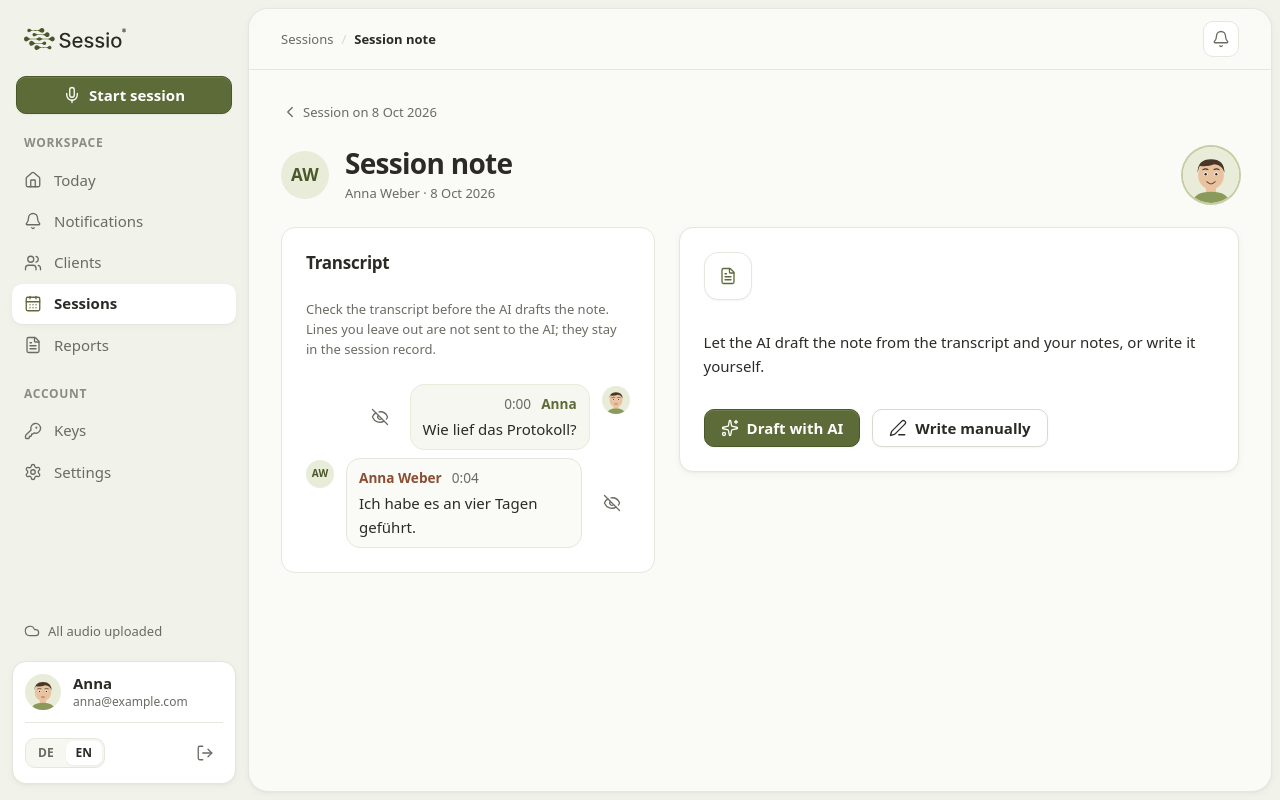
it: session note › lets the therapist leave lines out before the AI draft, and include them again
Expected: the text "Ich habe es an vier Tagen geführt." is shown, [359,492,569,539]
Expected: the text "Anna Weber" is shown, [359,467,442,488]
What coordinates should you click on to do the following:
click the button named "Leave out the line at 0:04 from the AI draft"
I would click on:
 (612, 503)
Its box is [594,485,630,521].
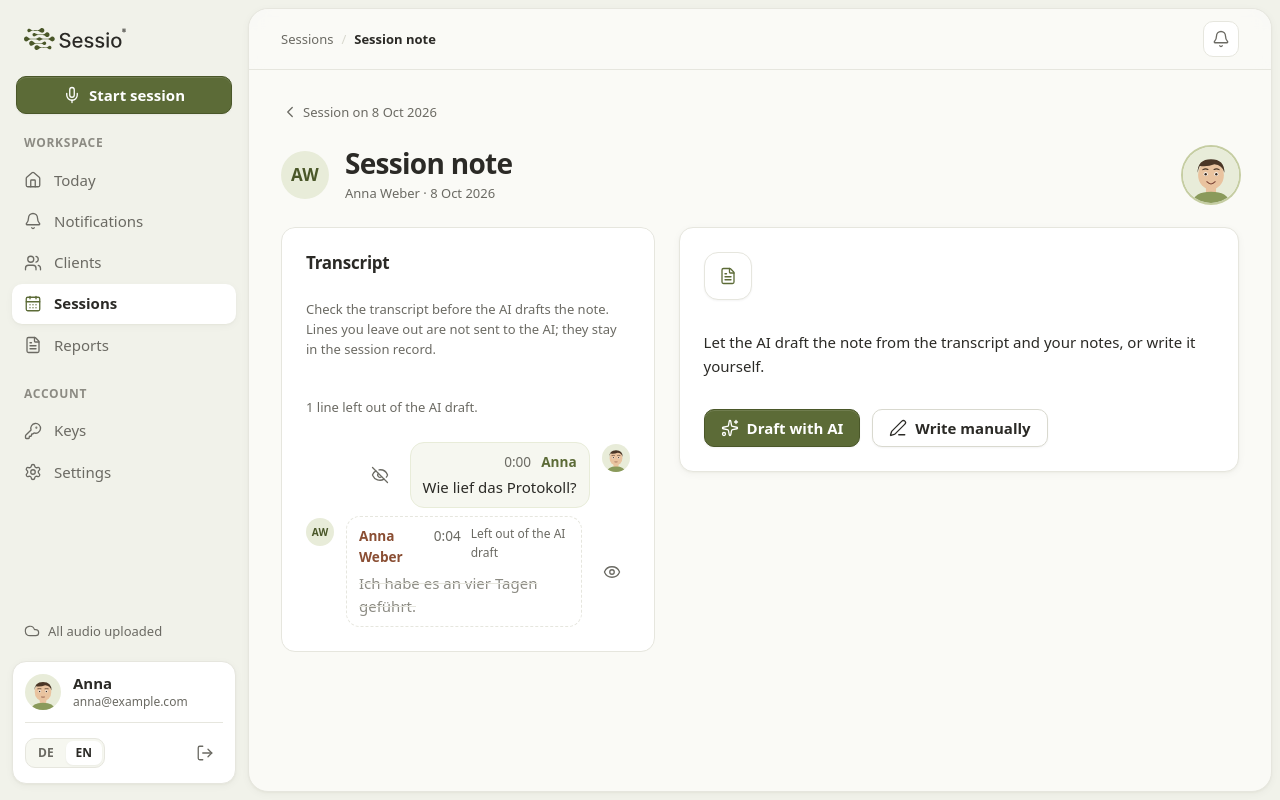
Now the text "Left out of the AI draft" is shown, box [471,525,569,568]
Now the text "1 line left out of the AI draft." is shown, box [306,398,478,416]
What coordinates should you click on to do the following:
click the button named "Include the line at 0:04 in the AI draft again"
I would click on:
 (612, 572)
Its box is [594,554,630,590].
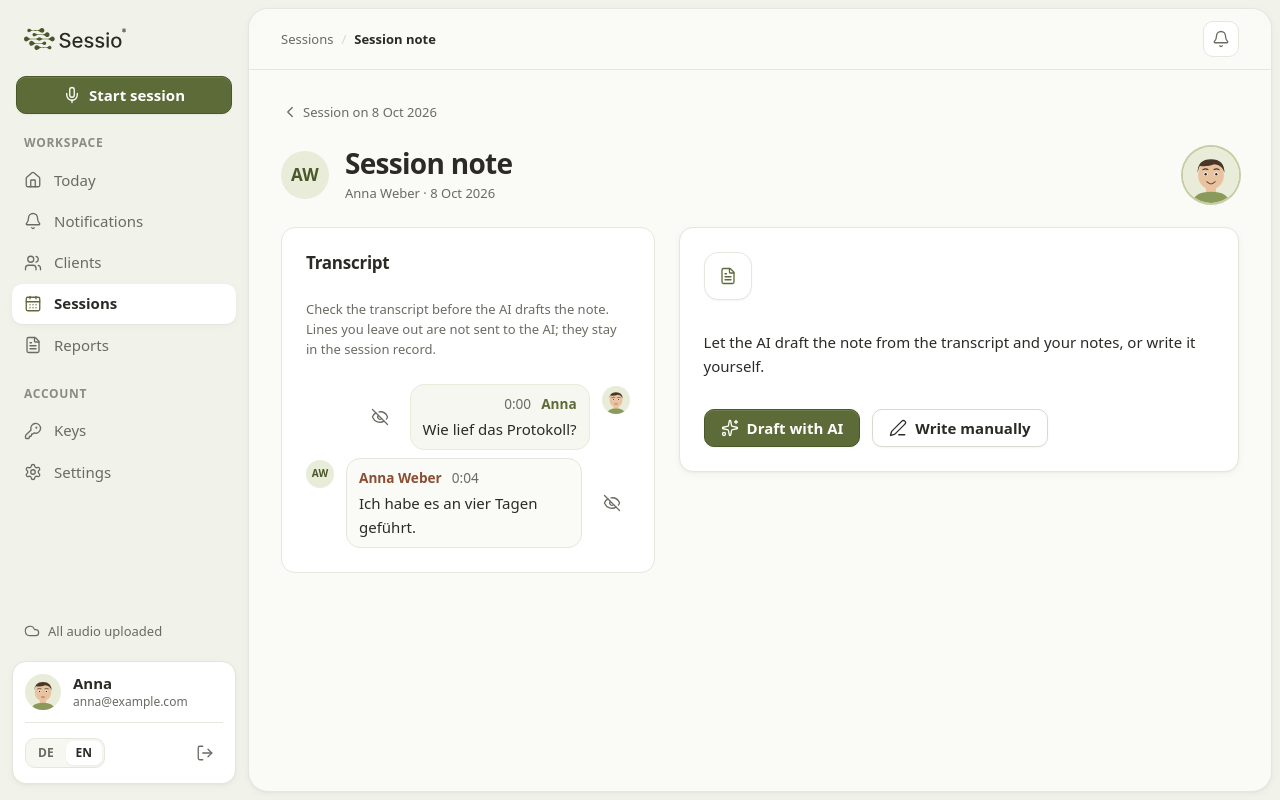
Expected: the button "Draft with AI" is enabled, [704,409,860,447]
Now the text "left out of the AI draft" is gone
